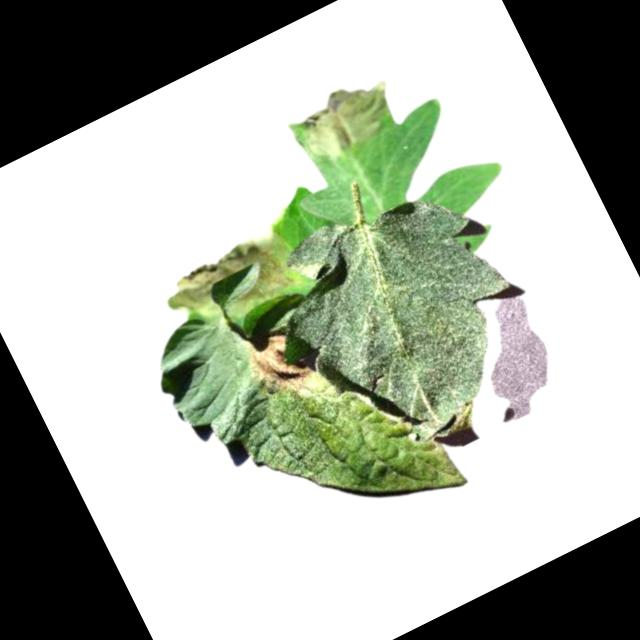Late_blight: (160, 225, 305, 337), (287, 68, 409, 174), (238, 326, 318, 408)
healthy: (255, 163, 556, 473)
